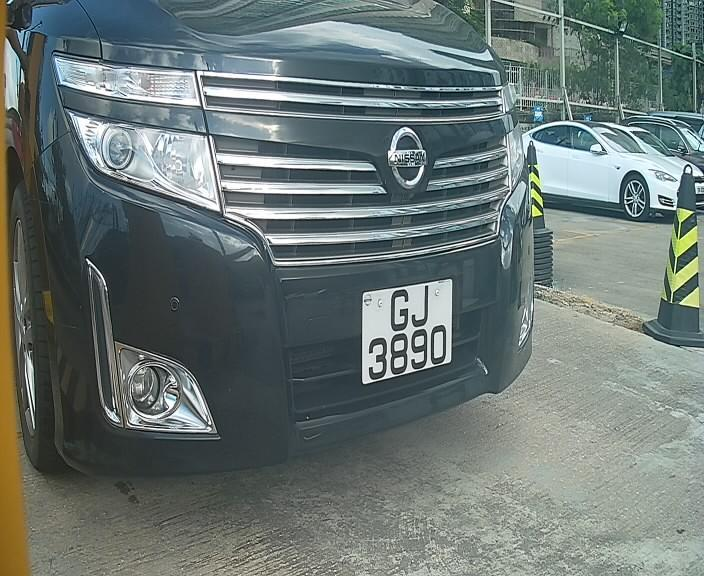License Plate: (356, 273, 456, 389)
